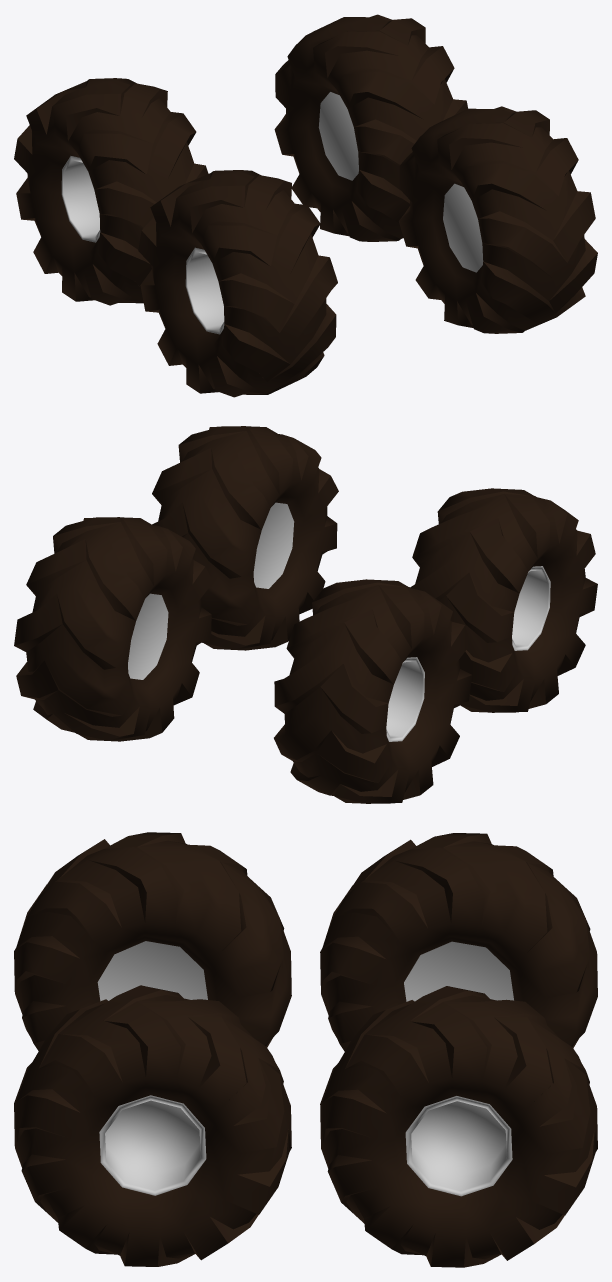
Rendered from Wheels_large_extra.fbx.
3 views of the same model, one above another, from view 1: azimuth 30°, elevation 25°; view 2: azimuth 150°, elevation 25°; view 3: azimuth 270°, elevation 25° (orthographic). The views are drawn at different scales.
Visible parts, largest first — view 1: wheel_large_extra_rightfront, wheel_large_extra_leftfront, wheel_large_extra_rightback, wheel_large_extra_leftback; view 2: wheel_large_extra_leftback, wheel_large_extra_rightback, wheel_large_extra_rightfront, wheel_large_extra_leftfront; view 3: wheel_large_extra_leftfront, wheel_large_extra_leftback, wheel_large_extra_rightfront, wheel_large_extra_rightback.
Boxes of the visible parts, x1=… form: wheel_large_extra_rightfront: x1=138, y1=170, x2=337, y2=397; wheel_large_extra_leftfront: x1=398, y1=106, x2=597, y2=333; wheel_large_extra_rightback: x1=14, y1=78, x2=208, y2=305; wheel_large_extra_leftback: x1=274, y1=14, x2=467, y2=241; wheel_large_extra_leftback: x1=14, y1=517, x2=213, y2=741; wheel_large_extra_rightback: x1=274, y1=579, x2=472, y2=803; wheel_large_extra_rightfront: x1=410, y1=488, x2=597, y2=712; wheel_large_extra_leftfront: x1=152, y1=426, x2=338, y2=650; wheel_large_extra_leftfront: x1=14, y1=985, x2=291, y2=1266; wheel_large_extra_leftback: x1=320, y1=986, x2=597, y2=1267; wheel_large_extra_rightfront: x1=14, y1=832, x2=291, y2=1050; wheel_large_extra_rightback: x1=320, y1=833, x2=597, y2=1051.
Bounding box in the file's own units: 374 × 205 × 429.
